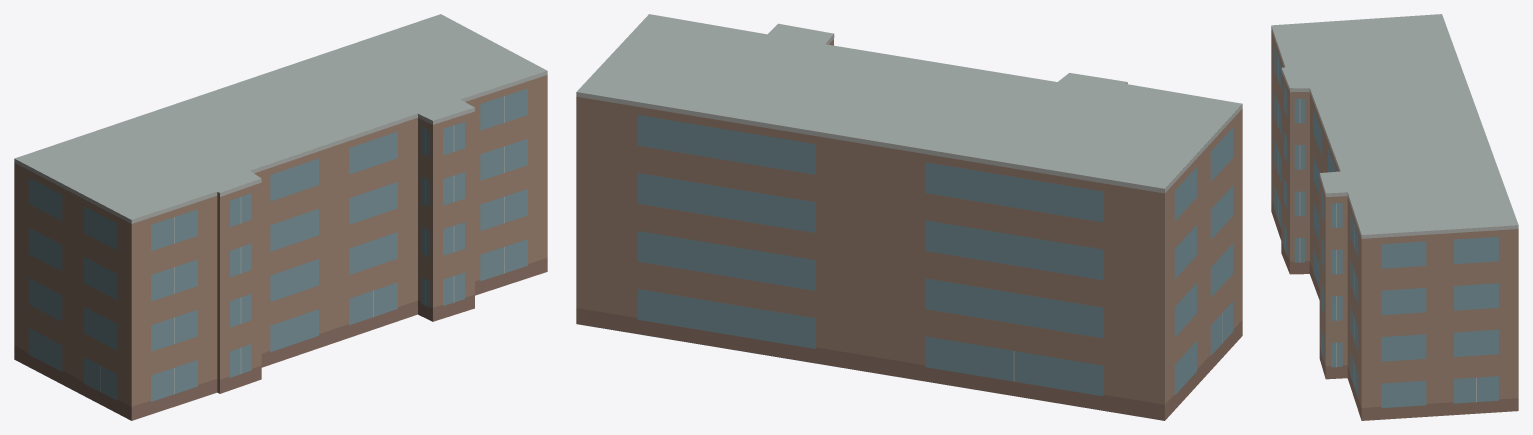
Rendered from survey-upis-32597157.glb.
The picture shows the model from 3 angles, left to right: view 1: azimuth 30°, elevation 25°; view 2: azimuth 150°, elevation 25°; view 3: azimuth 270°, elevation 25°; orthographic projection. The views are drawn at different scales.
Parts seen in each view (by area): view 1: survey-upis-32597157.tmp; view 2: survey-upis-32597157.tmp; view 3: survey-upis-32597157.tmp.
Part boxes in pixels (x1,y1,x2,y2): survey-upis-32597157.tmp: [14, 14, 547, 420]; survey-upis-32597157.tmp: [576, 14, 1242, 420]; survey-upis-32597157.tmp: [1271, 14, 1518, 420].
Bounding box in the file's own units: 31.15 × 12.2 × 14.74.
